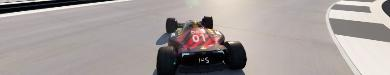Car: (155, 15, 246, 74)
Solid White and black: (324, 0, 389, 74)
